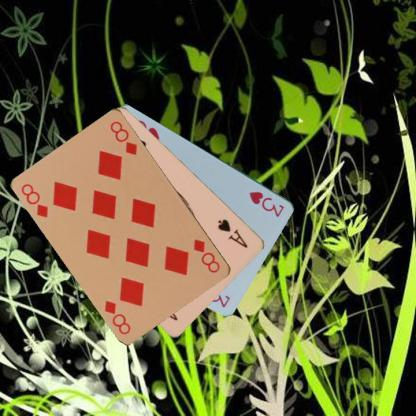3h: (247, 188, 286, 218)
8d: (18, 181, 50, 219), (191, 236, 222, 274)
As: (216, 216, 249, 249)
